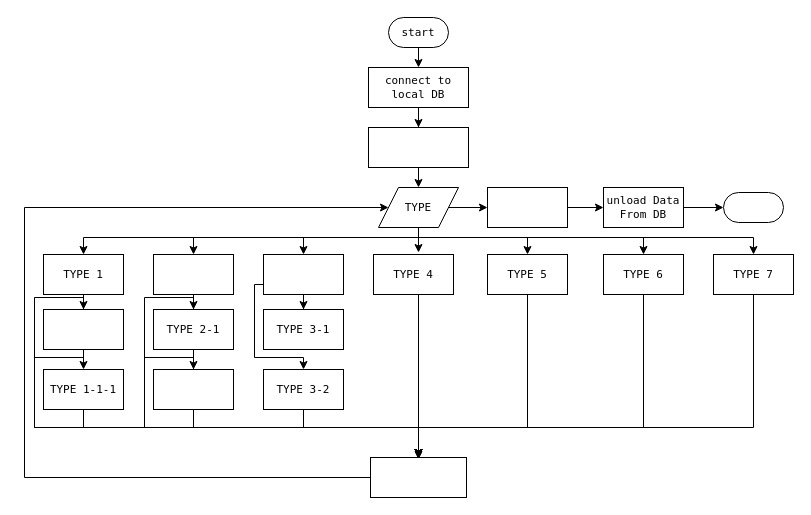
The diagram is 811 pixels wide and 515 high, and some of its shapes have lost their labels. Here are the shapes that lost their labels. From the top down, the box of each, then its label:
(368, 126, 468, 168): load Data to DB
(486, 186, 568, 228): TYPE 0
(722, 192, 784, 222): Finish
(152, 254, 234, 294): TYPE 2
(262, 254, 344, 294): TYPE 3
(42, 308, 124, 350): TYPE 1-1
(152, 368, 234, 410): TYPE 2-1-1
